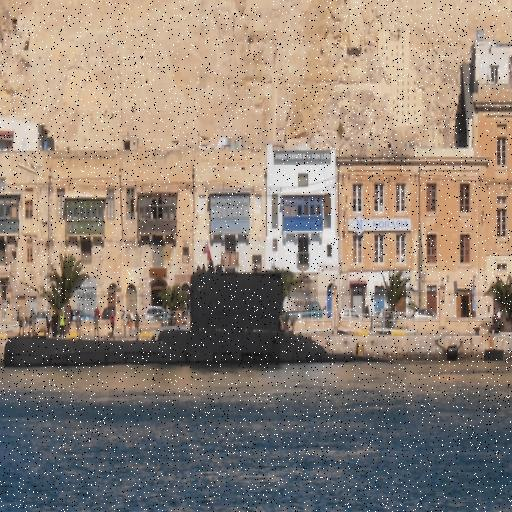submarine: (1, 269, 393, 361)
